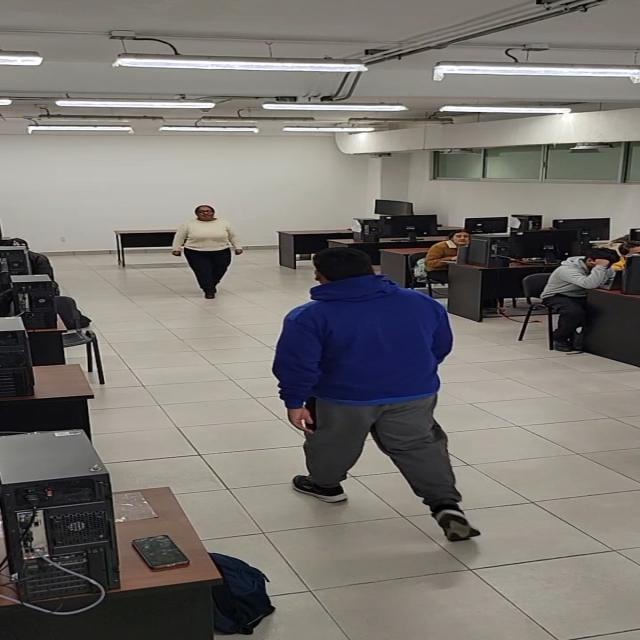Persona: (271, 243, 489, 544), (171, 204, 248, 300)
